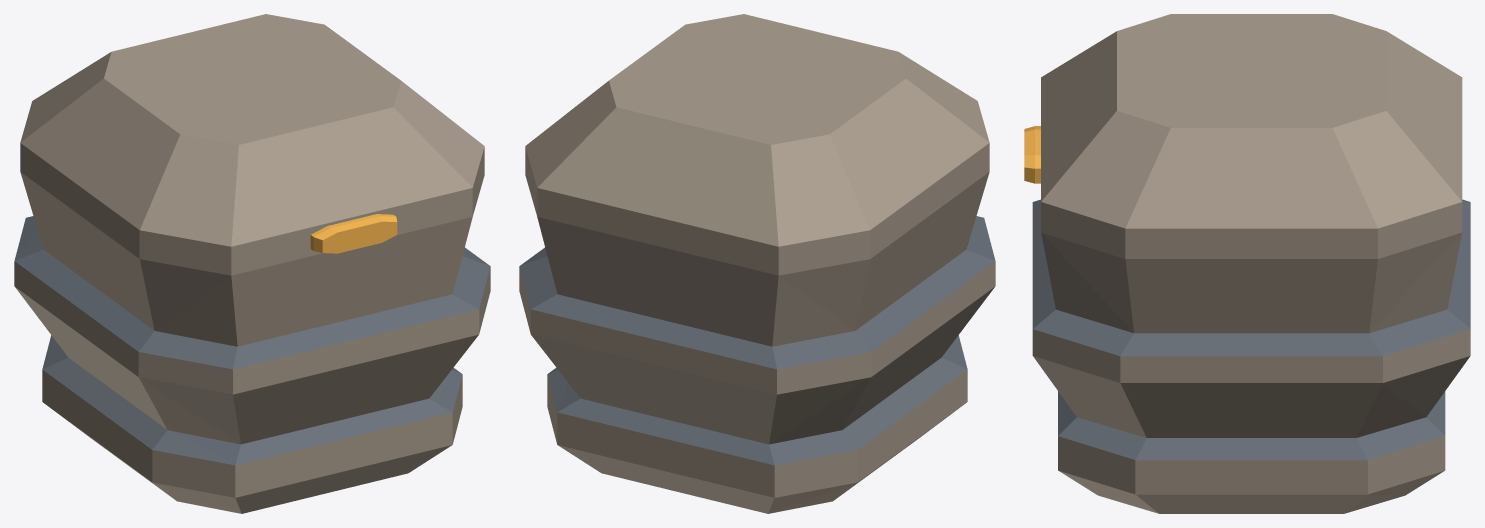
Rendered from pauldron_heavy.glb.
The picture shows the model from 3 angles, left to right: view 1: azimuth 30°, elevation 25°; view 2: azimuth 150°, elevation 25°; view 3: azimuth 270°, elevation 25°; orthographic projection. The views are drawn at different scales.
Parts seen in each view (by area): view 1: pauldron_heavy; view 2: pauldron_heavy; view 3: pauldron_heavy.
Boxes of the visible parts, x1,y1,x2,y2 form: pauldron_heavy: [14, 14, 490, 513]; pauldron_heavy: [519, 14, 995, 513]; pauldron_heavy: [1024, 14, 1470, 513].
Bounding box in the file's own units: 1.02 × 1 × 1.06.
